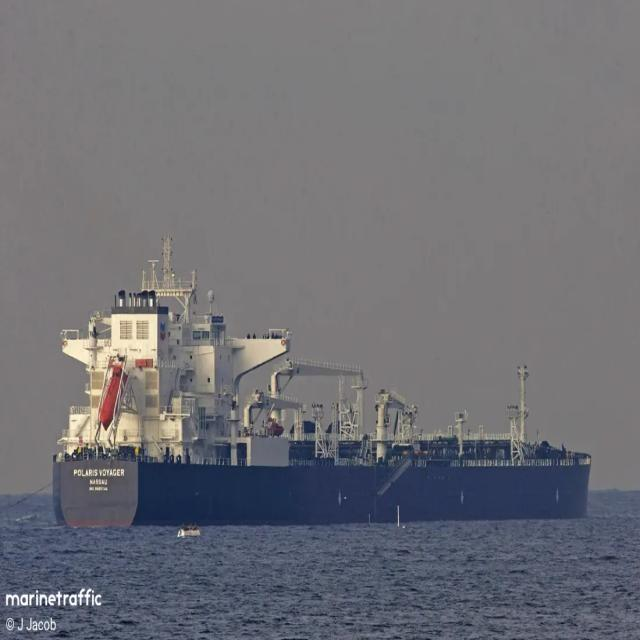Tanker: (53, 238, 591, 526)
